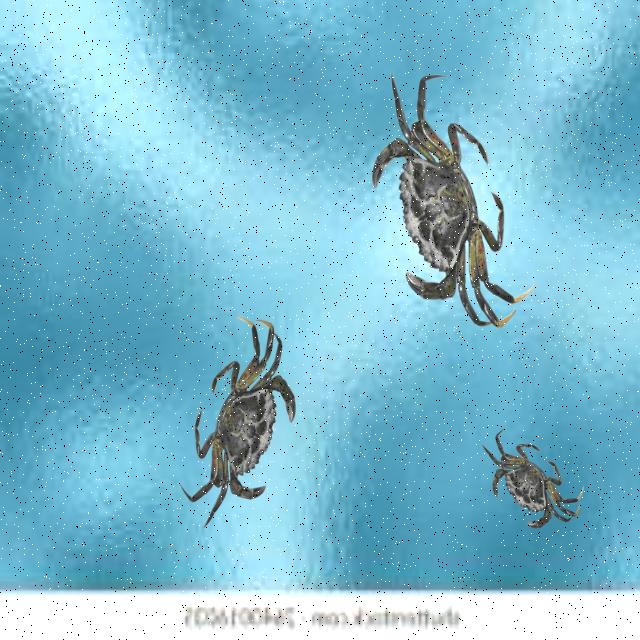European_Green_Crab: (339, 39, 543, 366), (164, 303, 319, 553), (466, 414, 590, 552)
